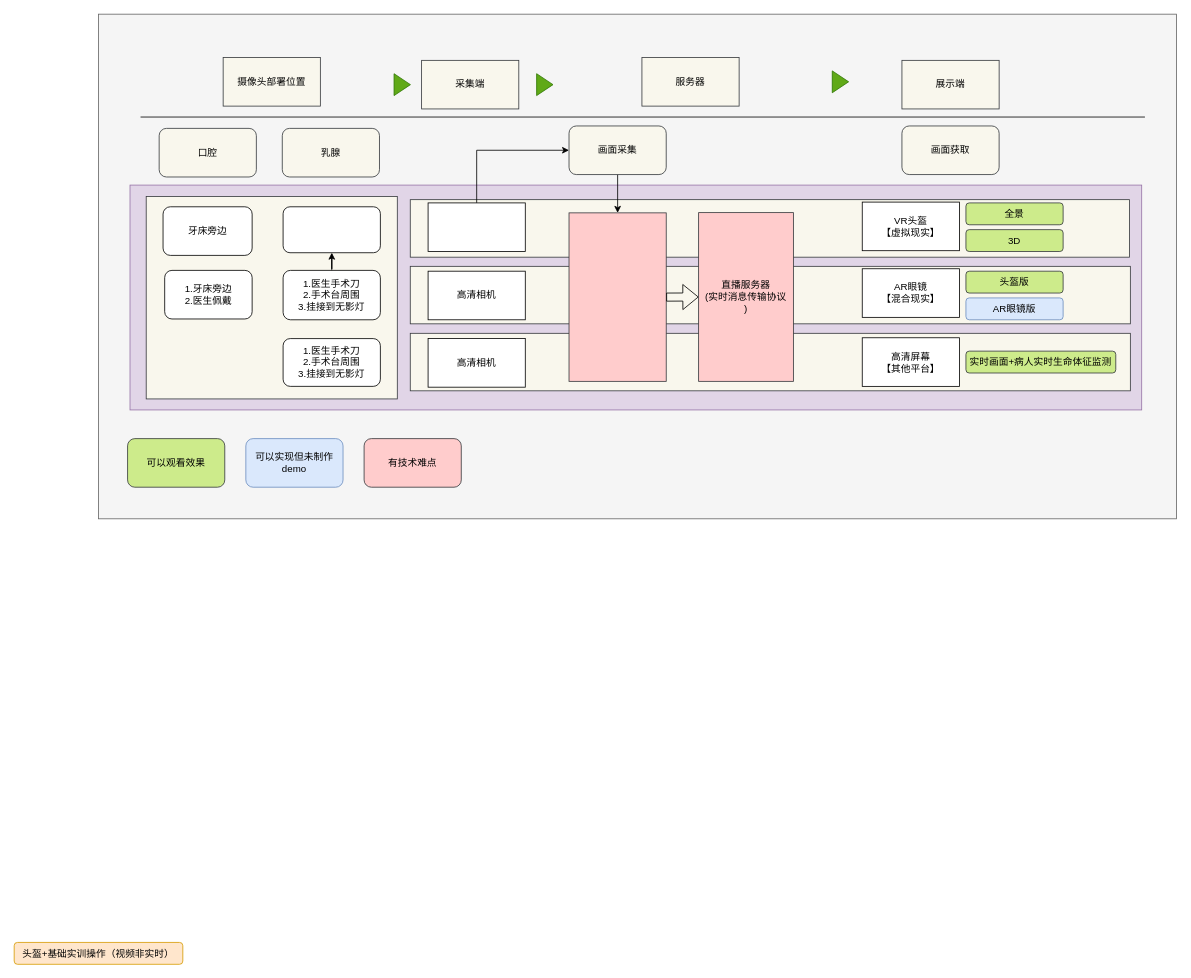
The diagram is 1191 pixels wide and 978 high, and some of its shapes have lost their labels. Each missing label, with the centre of its shape:
"1.手术台周围 2.挂接到无影灯" goes at point (331, 229).
"全景相机" goes at point (476, 227).
"推流" goes at point (617, 296).
